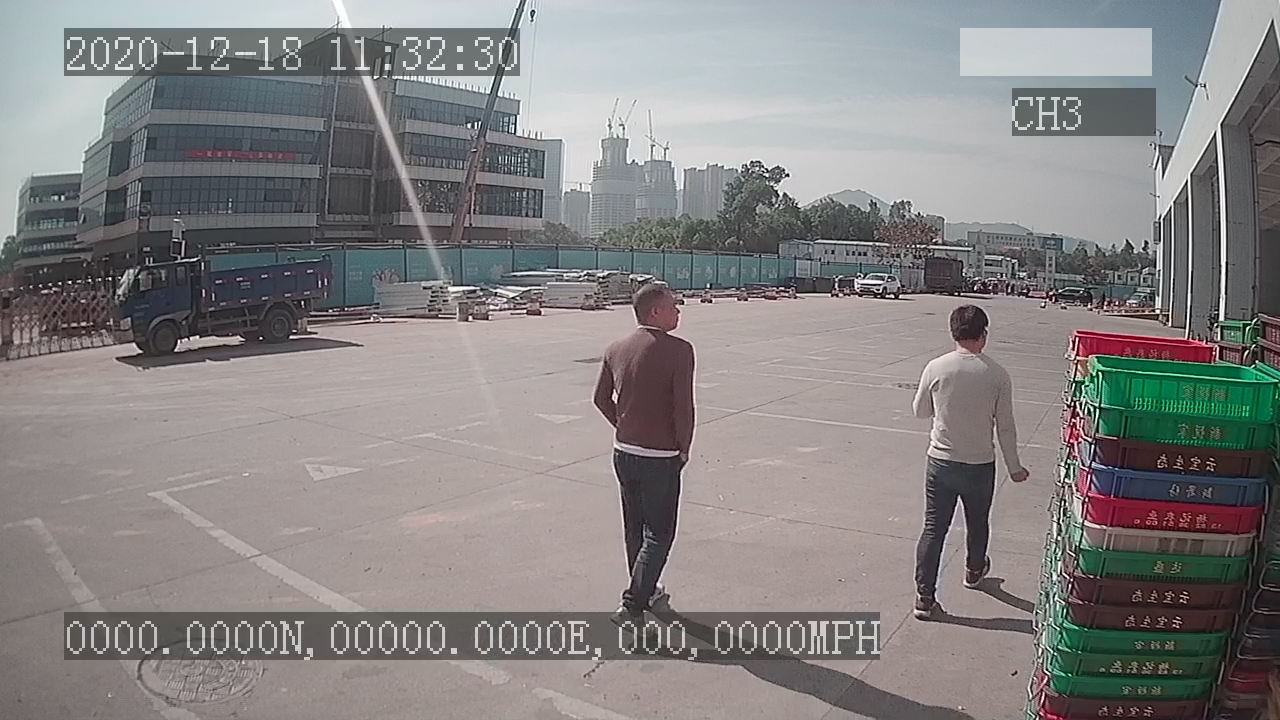person: (905, 301, 1030, 622)
